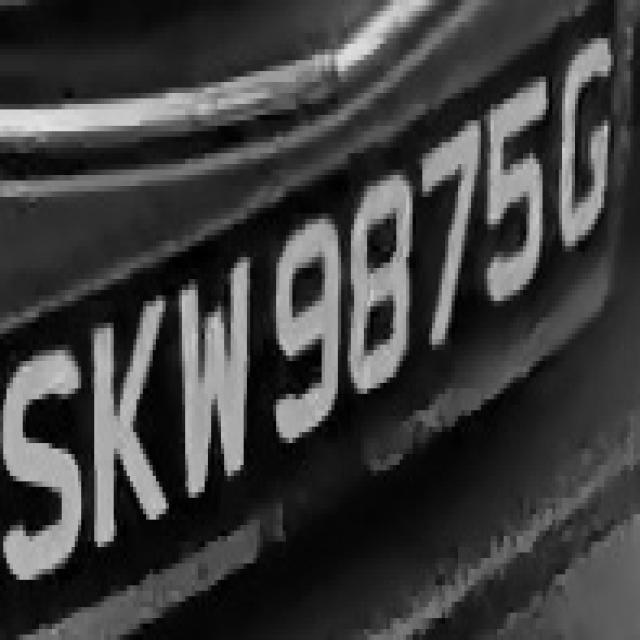5: (478, 71, 558, 317)
7: (403, 131, 487, 361)
8: (338, 186, 419, 410)
9: (270, 202, 351, 448)
G: (542, 32, 620, 252)
K: (88, 284, 175, 564)
S: (3, 317, 91, 591)
W: (172, 257, 257, 514)
